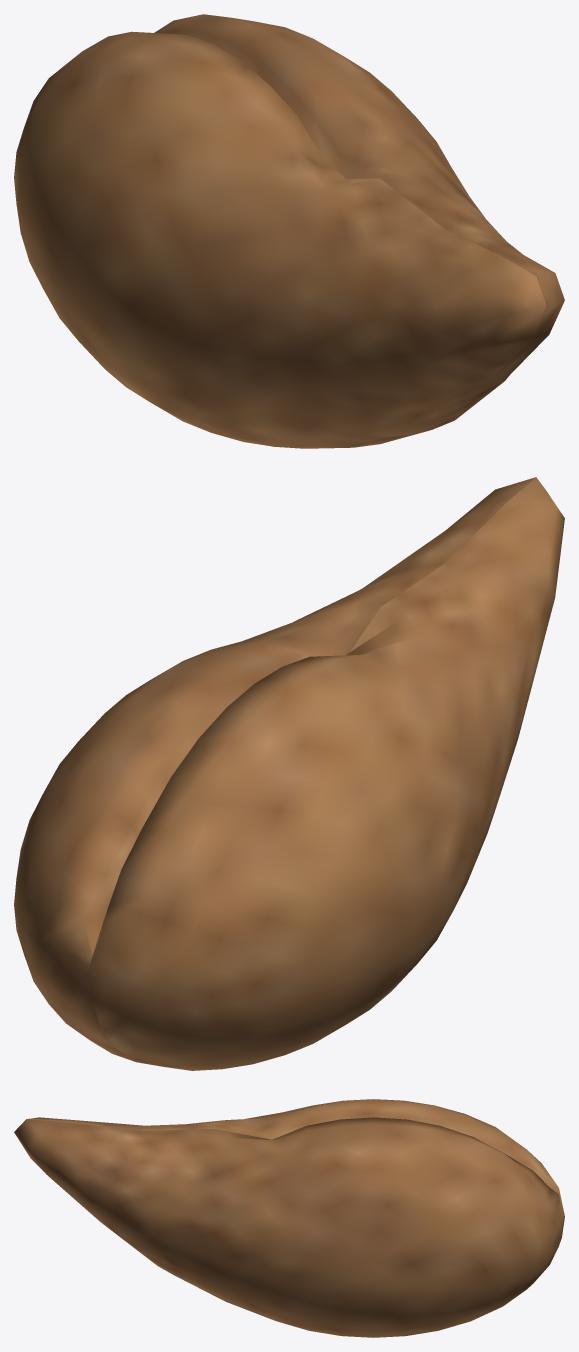
The model's file is s_algodon.glb.
The picture shows the model from 3 angles, top to bottom: view 1: azimuth 30°, elevation 25°; view 2: azimuth 150°, elevation 25°; view 3: azimuth 270°, elevation 25°; orthographic projection. The views are drawn at different scales.
Parts seen in each view (by area): view 1: Roundcube; view 2: Roundcube; view 3: Roundcube.
Boxes of the visible parts, x1,y1,x2,y2 form: Roundcube: (14, 14, 564, 448); Roundcube: (14, 477, 564, 1070); Roundcube: (14, 1099, 564, 1337).
Bounding box in the file's own units: 2.03 × 2 × 4.66.
Materials: 1 (1 with a texture image).
